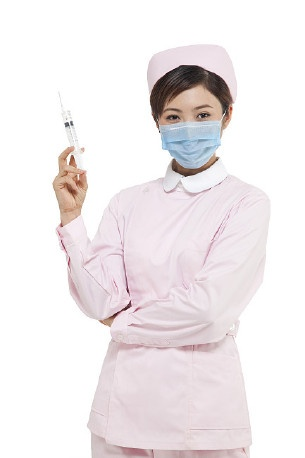Mask: (157, 100, 226, 170)
